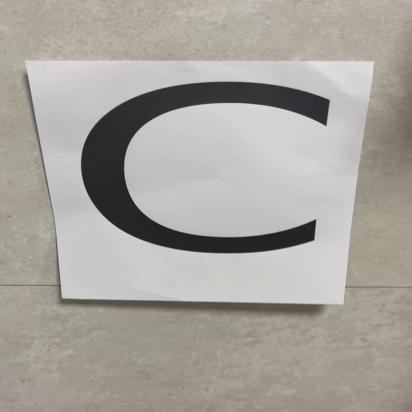seat: (29, 56, 376, 308)
